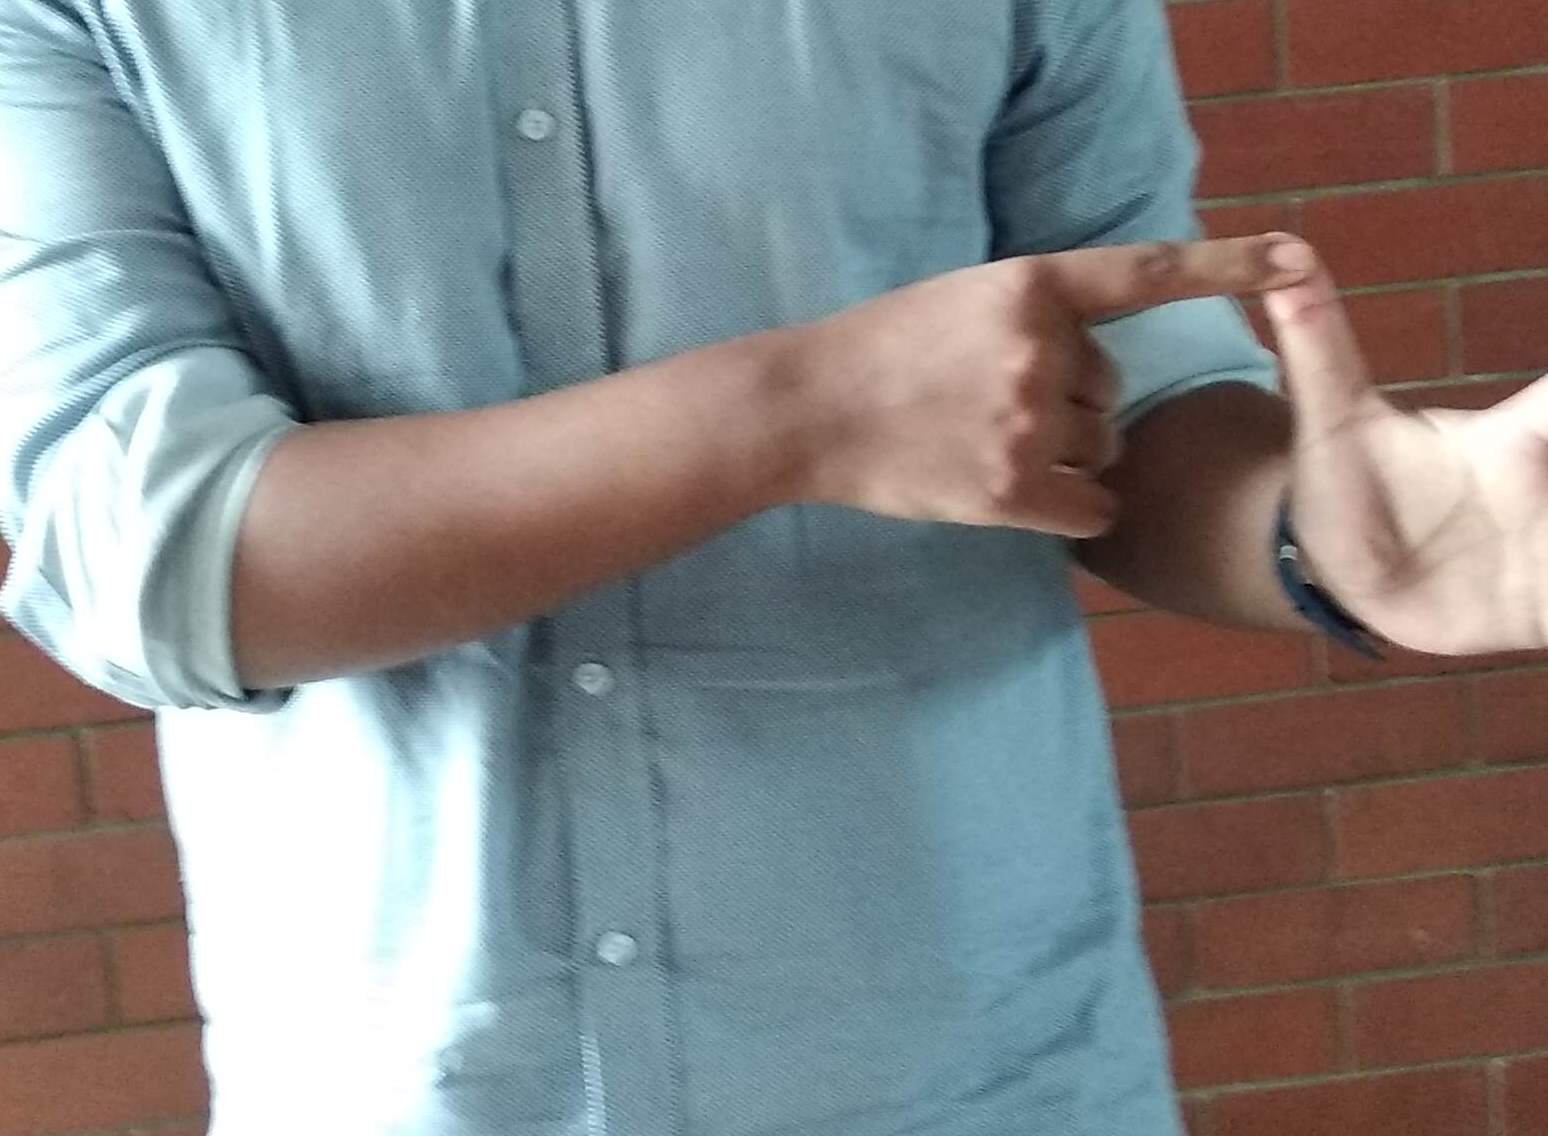a: (933, 202, 1548, 716)
